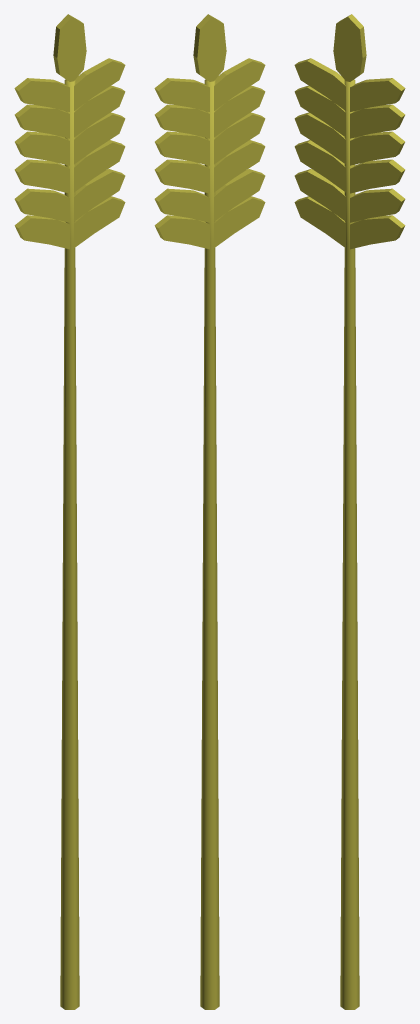
The model's file is Trigo.fbx.
3 views of the same model, side by side, from view 1: azimuth 30°, elevation 25°; view 2: azimuth 210°, elevation 25°; view 3: azimuth 330°, elevation 25° (orthographic).
Visible parts, largest first — view 1: Trigo.001; view 2: Trigo.001; view 3: Trigo.001.
Part boxes in pixels (x1,y1,x2,y2): Trigo.001: [14, 14, 125, 1009]; Trigo.001: [154, 14, 265, 1009]; Trigo.001: [294, 14, 405, 1009].
Size of the model in its own units: 0.029 by 0.1854 by 1.64.
